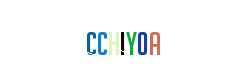0: (91, 0, 171, 80)
A: (114, 0, 194, 80)
C: (60, 0, 140, 80), (75, 0, 155, 80)
H: (81, 0, 161, 80)
I: (82, 0, 162, 80)
Y: (82, 0, 162, 80)
